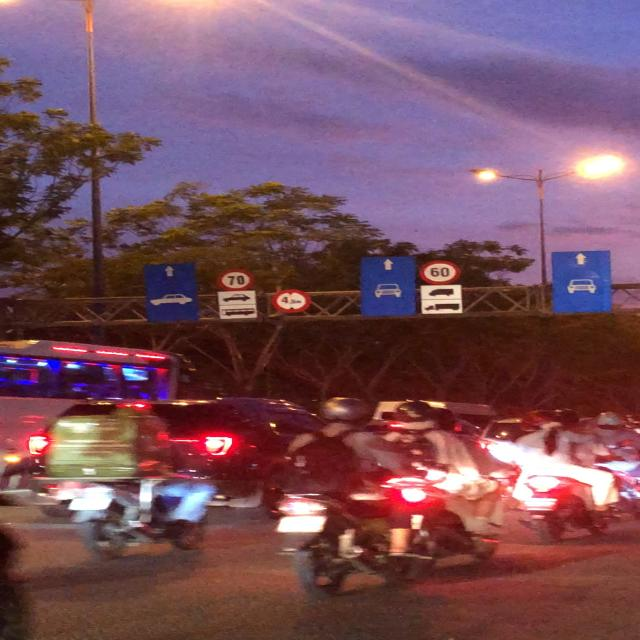Bien bao han che chieu cao: (267, 286, 315, 314)
Bien bao toc do toi da cho phep: (416, 257, 463, 288), (216, 268, 254, 292)
